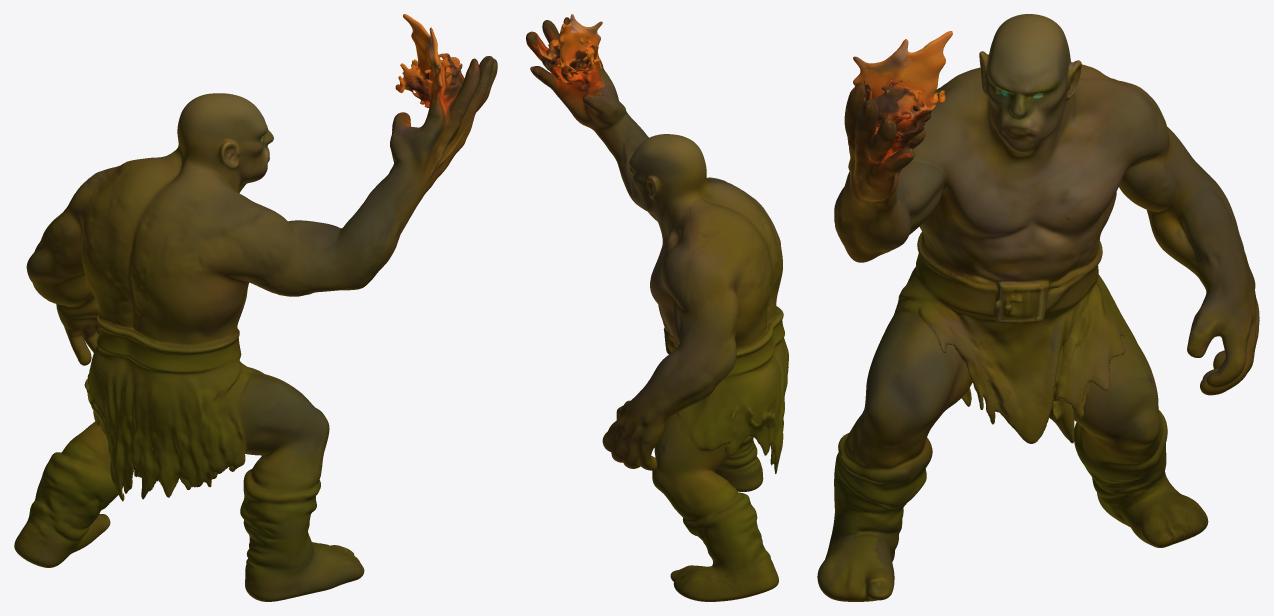
The picture shows the model from 3 angles, left to right: view 1: azimuth 30°, elevation 25°; view 2: azimuth 150°, elevation 25°; view 3: azimuth 270°, elevation 25°; orthographic projection. The views are drawn at different scales.
Visible parts, largest first — view 1: tripo_node_ab0c1f26-8176-44f9-8e6f-40cf696442eb; view 2: tripo_node_ab0c1f26-8176-44f9-8e6f-40cf696442eb; view 3: tripo_node_ab0c1f26-8176-44f9-8e6f-40cf696442eb.
Part boxes in pixels (box(x1,y1,x2,y2)): tripo_node_ab0c1f26-8176-44f9-8e6f-40cf696442eb: box(14, 14, 497, 601); tripo_node_ab0c1f26-8176-44f9-8e6f-40cf696442eb: box(526, 14, 788, 601); tripo_node_ab0c1f26-8176-44f9-8e6f-40cf696442eb: box(817, 14, 1259, 601).
Bounding box in the file's own units: 0.7505 × 1 × 0.6092.
Materials: 1 (1 with a texture image).
